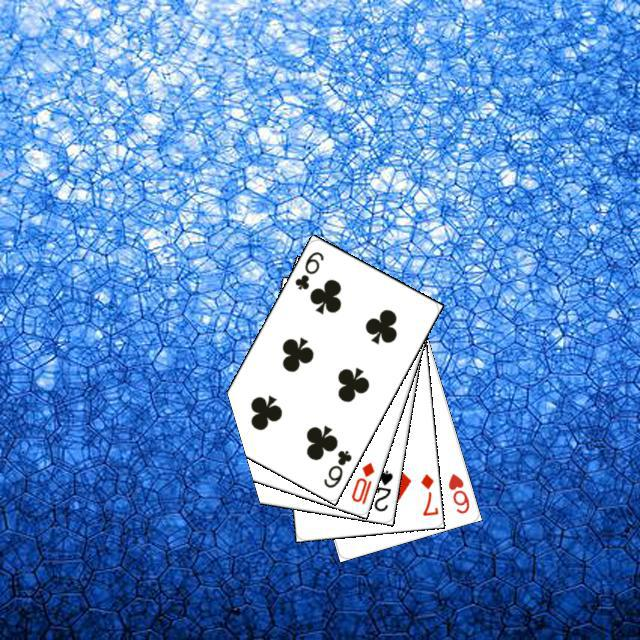10d: (346, 457, 376, 506)
2s: (369, 465, 395, 513)
6c: (290, 246, 326, 292), (318, 445, 353, 490)
6h: (443, 468, 471, 515)
7d: (416, 469, 438, 518)
